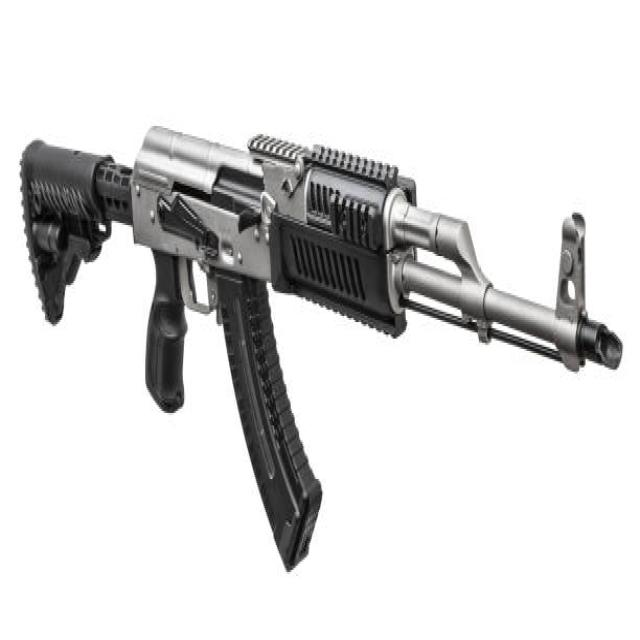rifle: (12, 108, 630, 579)
